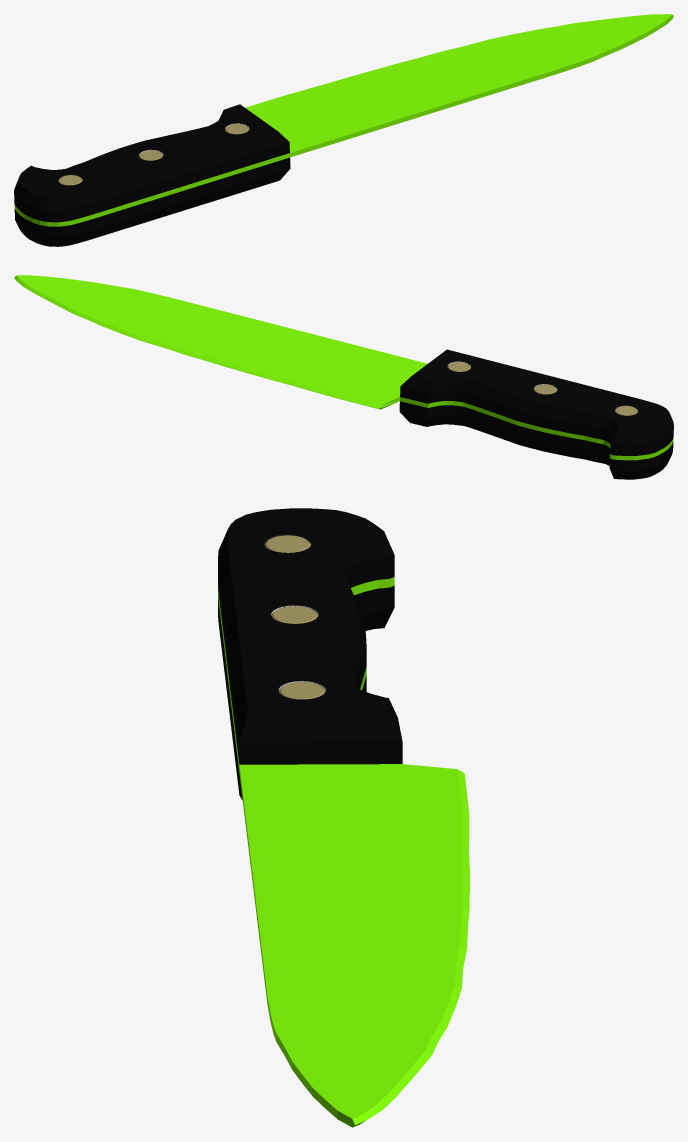
Rendered from knife_01_origin_gt_2.dae.
3 renders of one model, top to bottom at view 1: azimuth 30°, elevation 25°; view 2: azimuth 150°, elevation 25°; view 3: azimuth 270°, elevation 25°, orthographic. The views are drawn at different scales.
Parts seen in each view (by area): view 1: blade, handle (×2); view 2: blade, handle (×2); view 3: blade, handle (×2).
Boxes of the visible parts, x1=… form: blade: x1=14, y1=14, x2=673, y2=226; handle (×2): x1=14, y1=104, x2=290, y2=246; blade: x1=14, y1=275, x2=673, y2=460; handle (×2): x1=399, y1=349, x2=673, y2=479; blade: x1=218, y1=577, x2=469, y2=1127; handle (×2): x1=218, y1=508, x2=402, y2=800.
Bounding box in the file's own units: 12.21 × 2.09 × 1.03.
